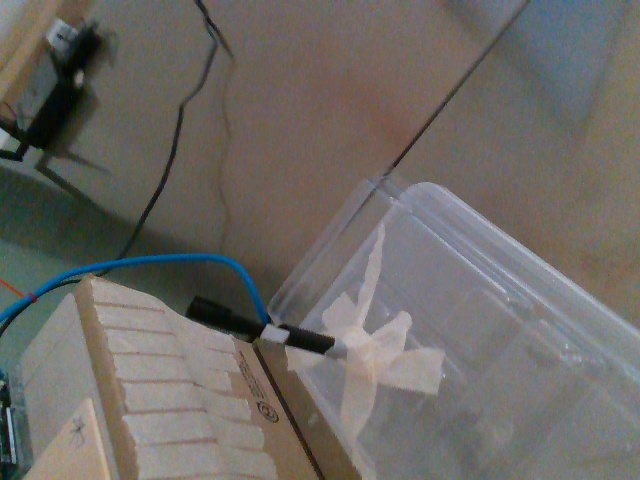test_strip: (183, 295, 288, 345)
